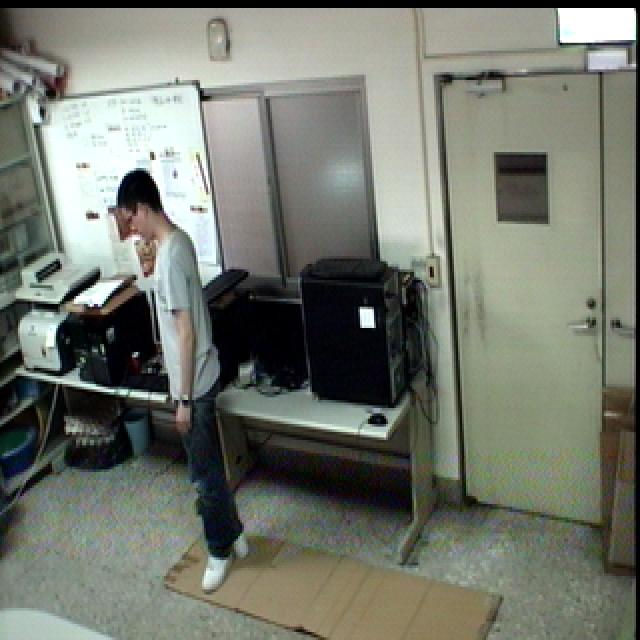stand: (116, 164, 264, 605)
